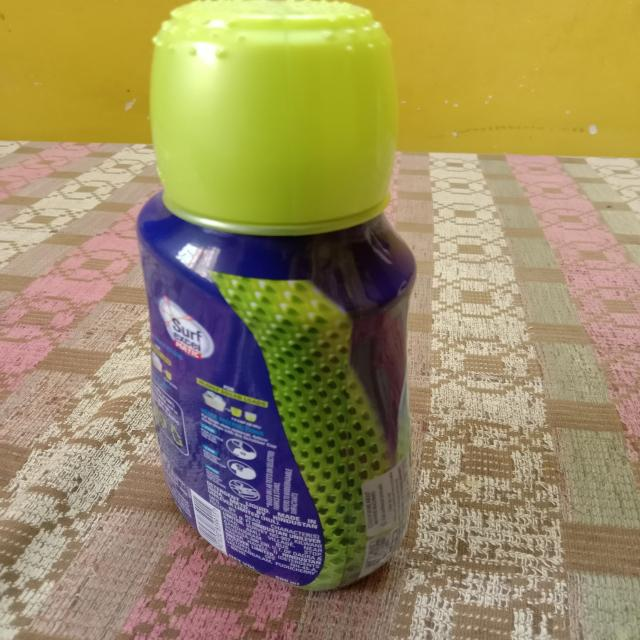detergent: (140, 8, 440, 599)
